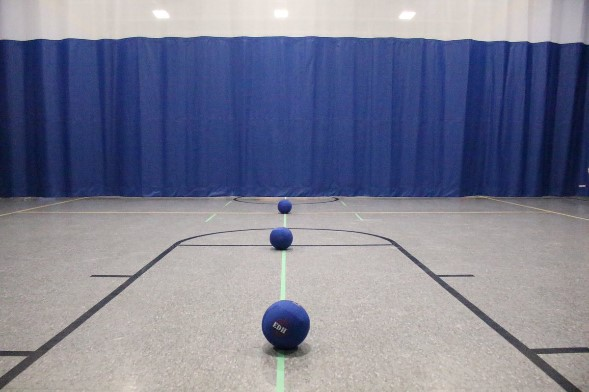blue ball: (261, 300, 312, 351), (270, 228, 293, 251), (277, 200, 291, 214)
